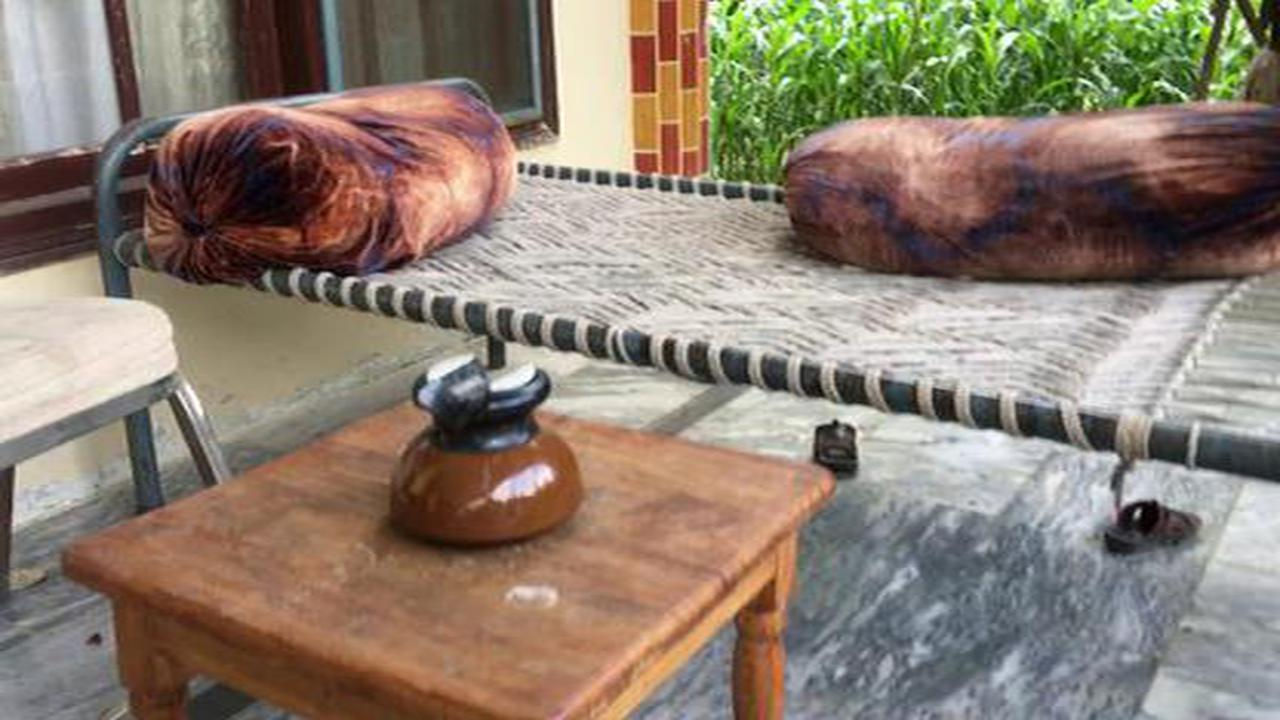insulator_pin: (373, 343, 591, 554)
